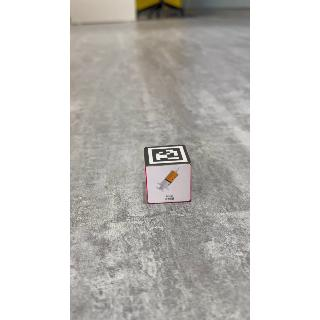Syringe: (146, 164, 196, 206)
